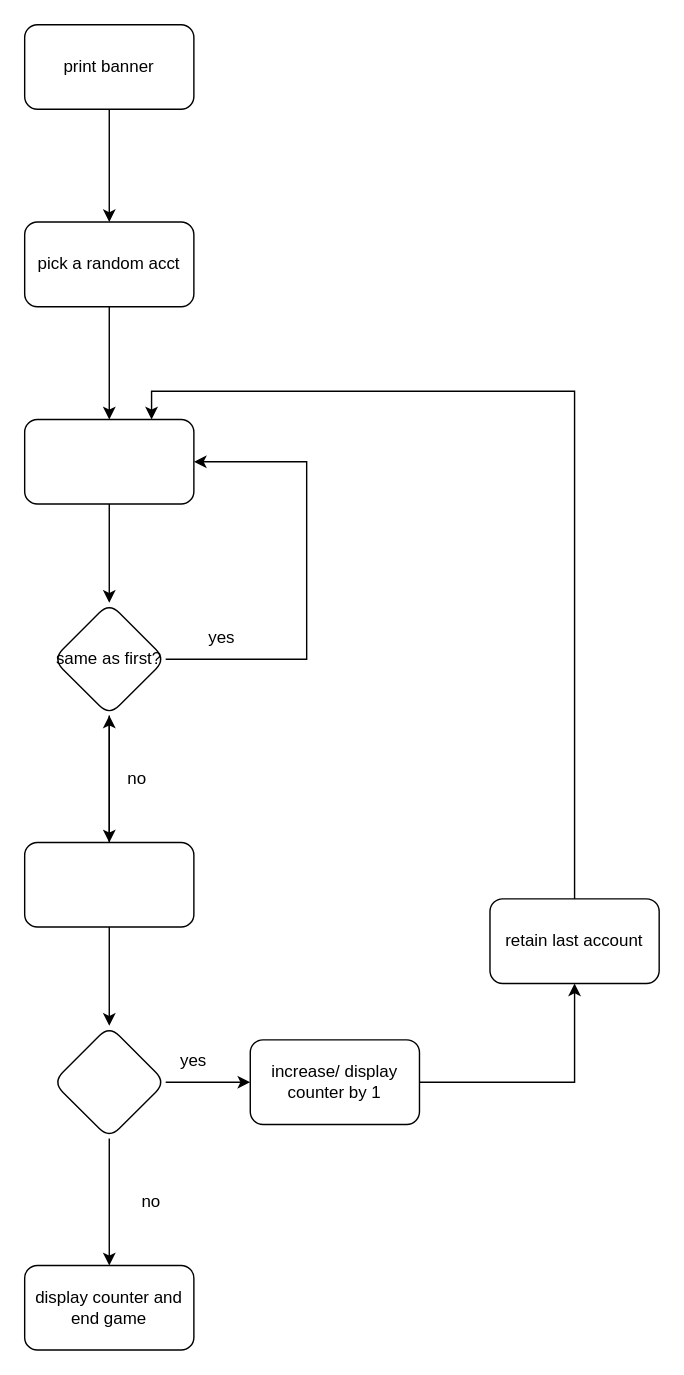
This 684x1375 diagram has some shape labels left out. The centre of each missing label's shape, as x and y in pixels:
"correct?" goes at point 108,1081.
"pick another account" goes at point 108,461.
"user chooses a or b" goes at point 108,884.
